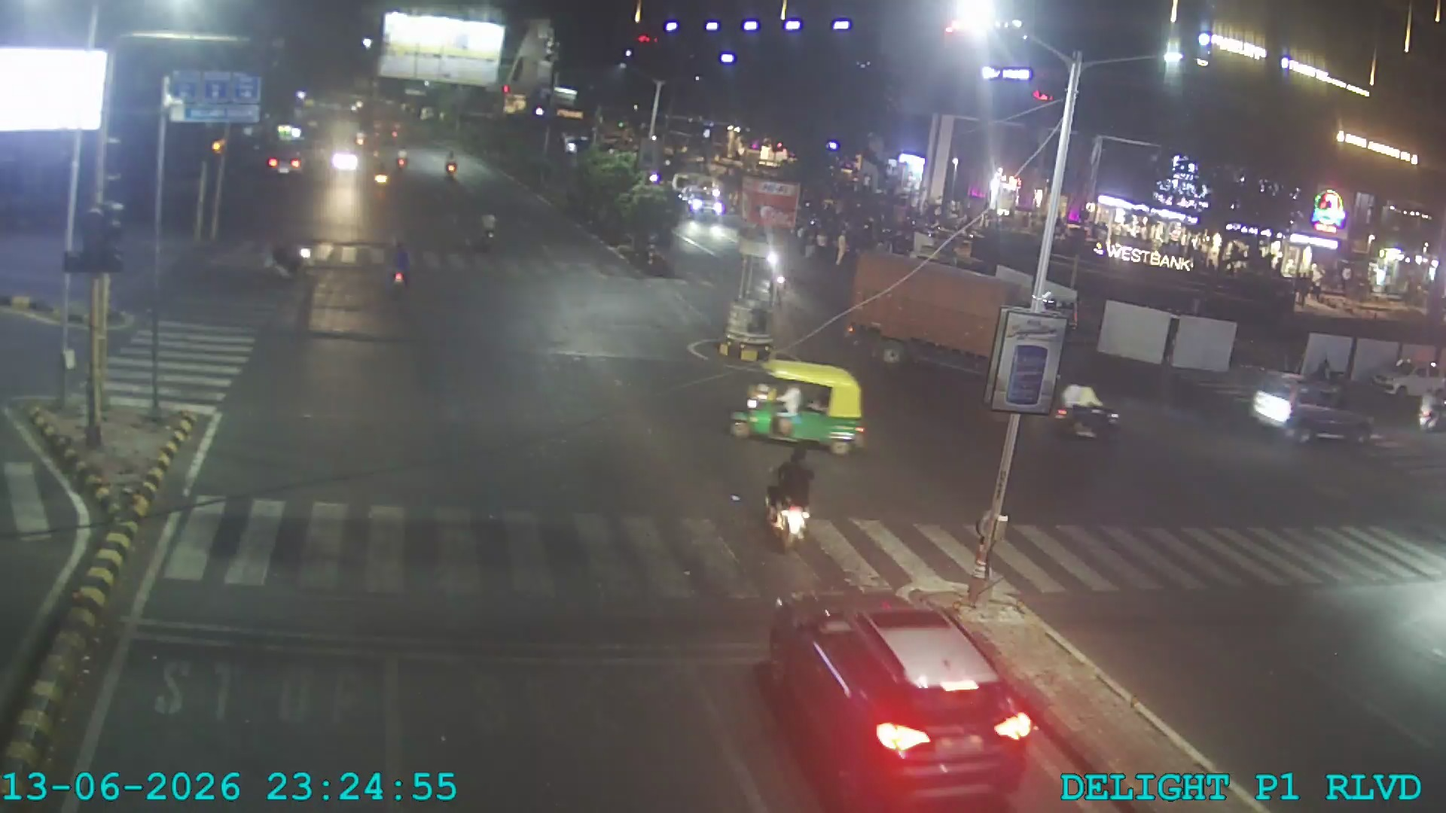auto_rickshaw: (739, 355, 869, 447)
car: (748, 585, 1040, 793), (1243, 369, 1375, 445)
two_wheeler: (759, 450, 822, 546), (381, 228, 416, 305), (1411, 373, 1446, 436), (475, 204, 503, 254), (440, 146, 463, 187), (393, 143, 413, 179)
